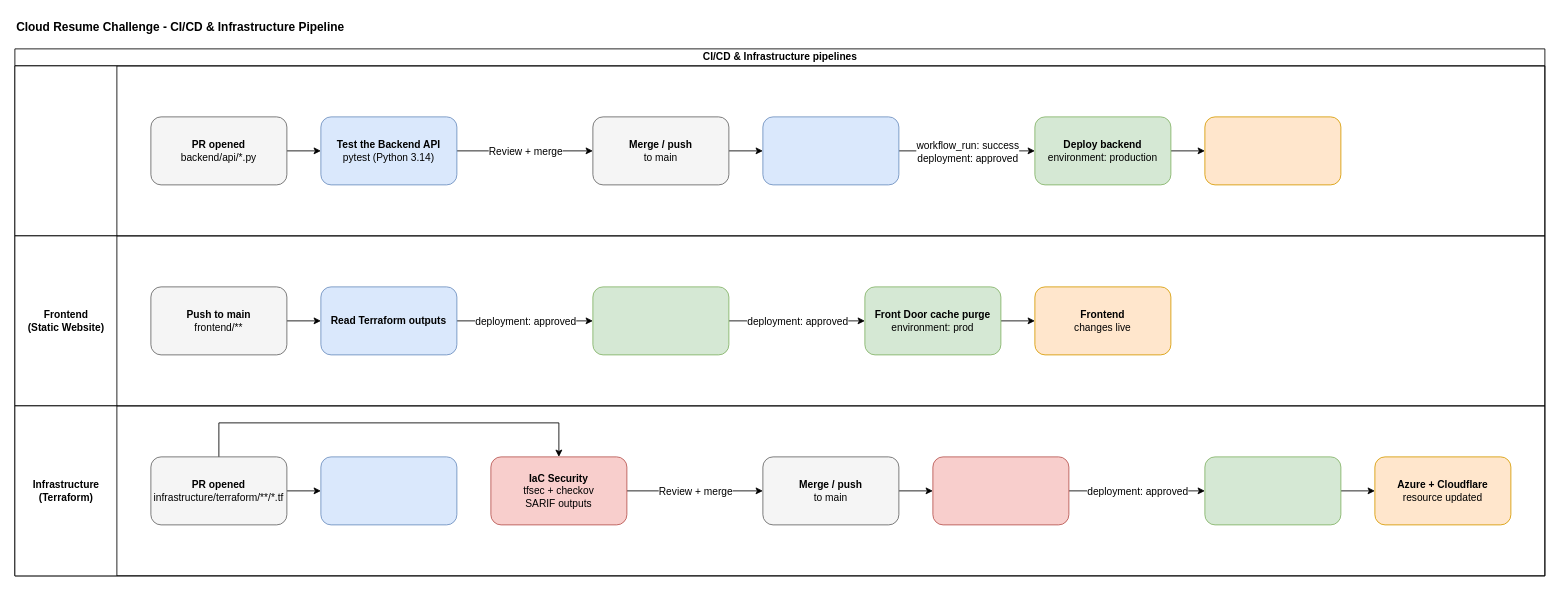
Some shapes in this 1560 by 591 pixel diagram are drawn without their labels. The shapes that lost their labels are listed below. From the top down, each one's box as (x1, y1, x2, y2) in pixels, then its label:
(14, 65, 1545, 236): Backend (Function App)
(762, 116, 899, 185): Test the Backend API pytest (Python 3.14) on main
(1204, 116, 1341, 185): Function App visitor-count API live
(592, 286, 729, 355): Sync to static website environment: prod
(320, 456, 457, 525): terraform-docs generate Terraform documentation push to PR branch
(932, 456, 1069, 525): IaC Security tfsec + checkov SARIF outputs on main
(1204, 456, 1341, 525): Terraform apply environment: production
